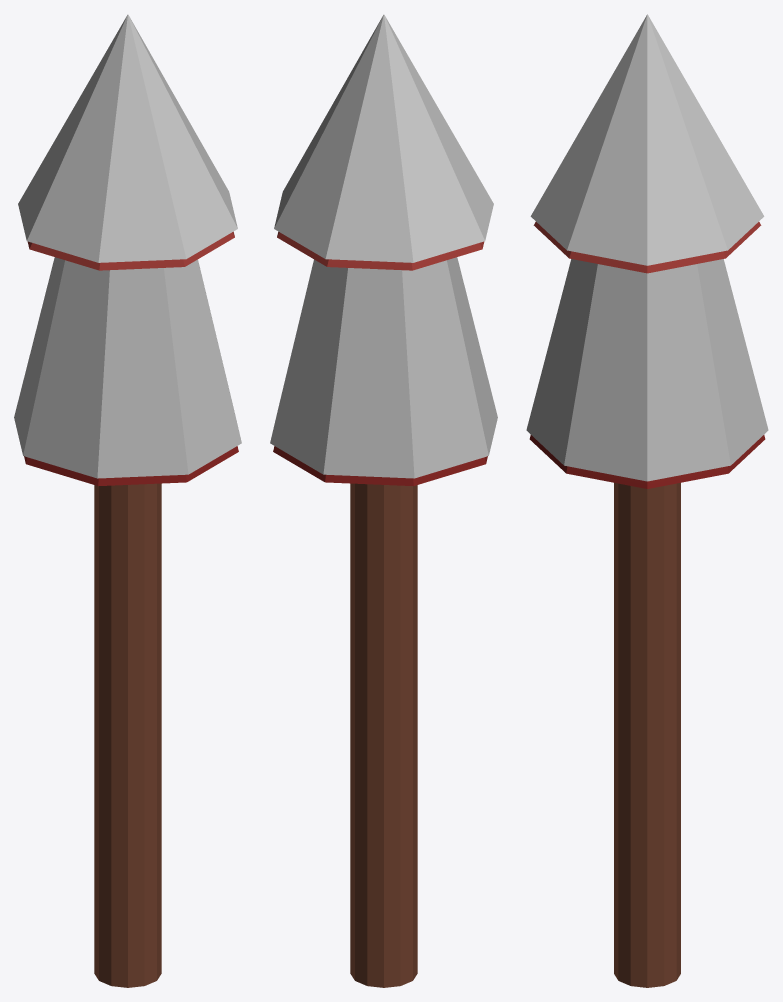
File: Tree_21_winter_gradient_red_vc.fbx
The picture shows the model from 3 angles, left to right: view 1: azimuth 30°, elevation 25°; view 2: azimuth 150°, elevation 25°; view 3: azimuth 270°, elevation 25°; orthographic projection.
Visible parts, largest first — view 1: Tree_21_winter_gradient_red_vc; view 2: Tree_21_winter_gradient_red_vc; view 3: Tree_21_winter_gradient_red_vc.
Boxes of the visible parts, x1=… form: Tree_21_winter_gradient_red_vc: x1=14, y1=14, x2=241, y2=987; Tree_21_winter_gradient_red_vc: x1=270, y1=14, x2=497, y2=987; Tree_21_winter_gradient_red_vc: x1=526, y1=14, x2=768, y2=987.
Bounding box in the file's own units: 80.03 × 350 × 80.03.
